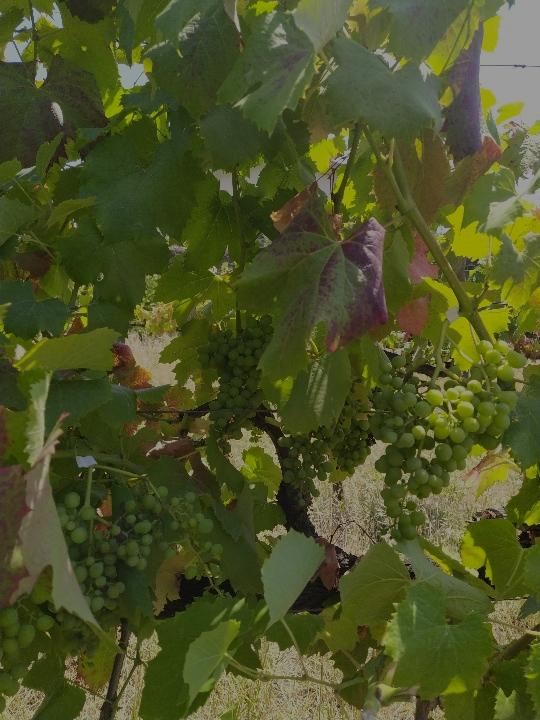grape: (4, 484, 233, 667), (368, 339, 530, 543), (198, 313, 280, 449)
